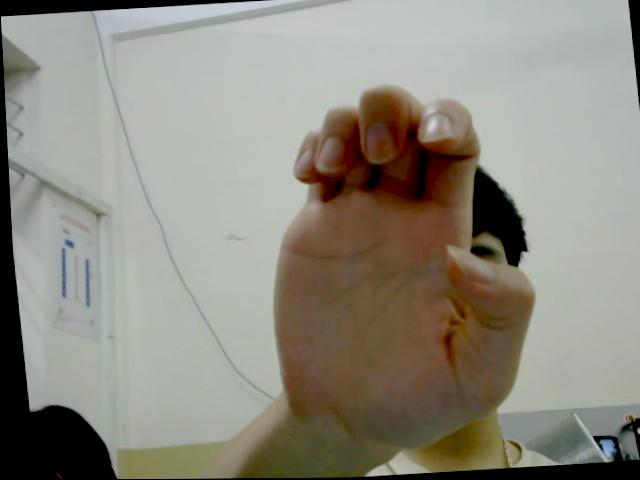E: (245, 76, 543, 436)
